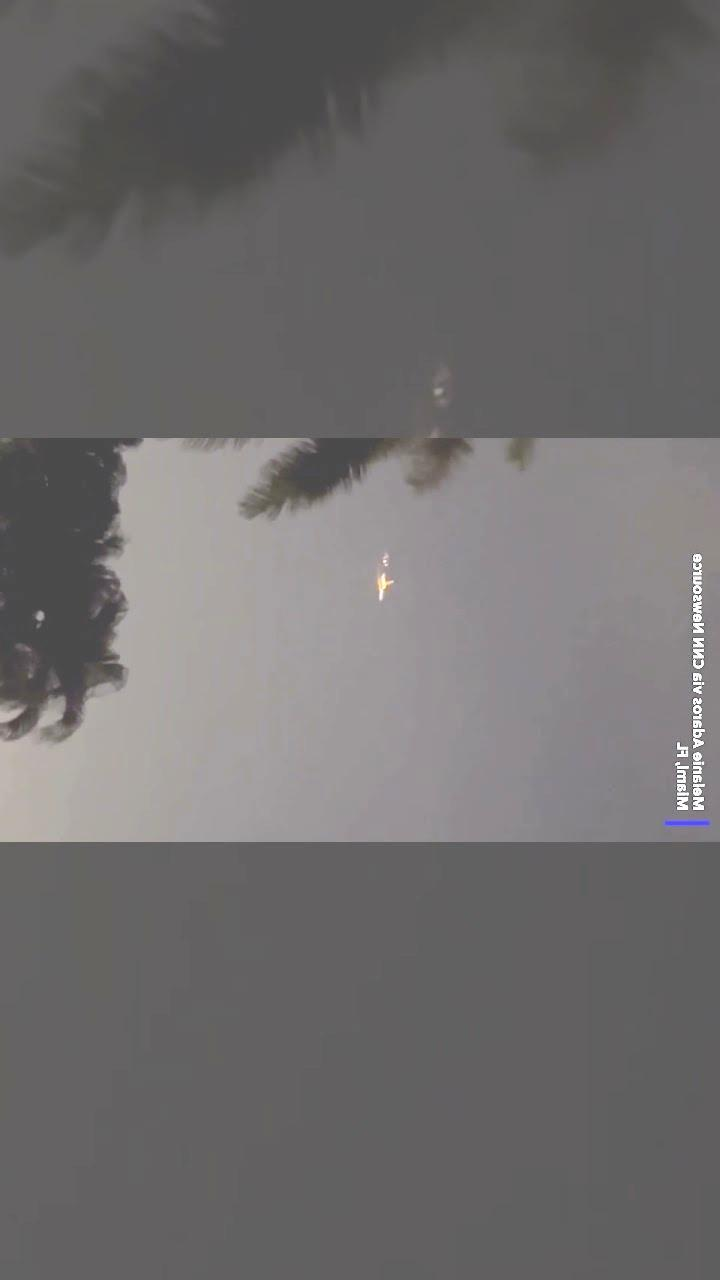Plane: (355, 548, 420, 609)
